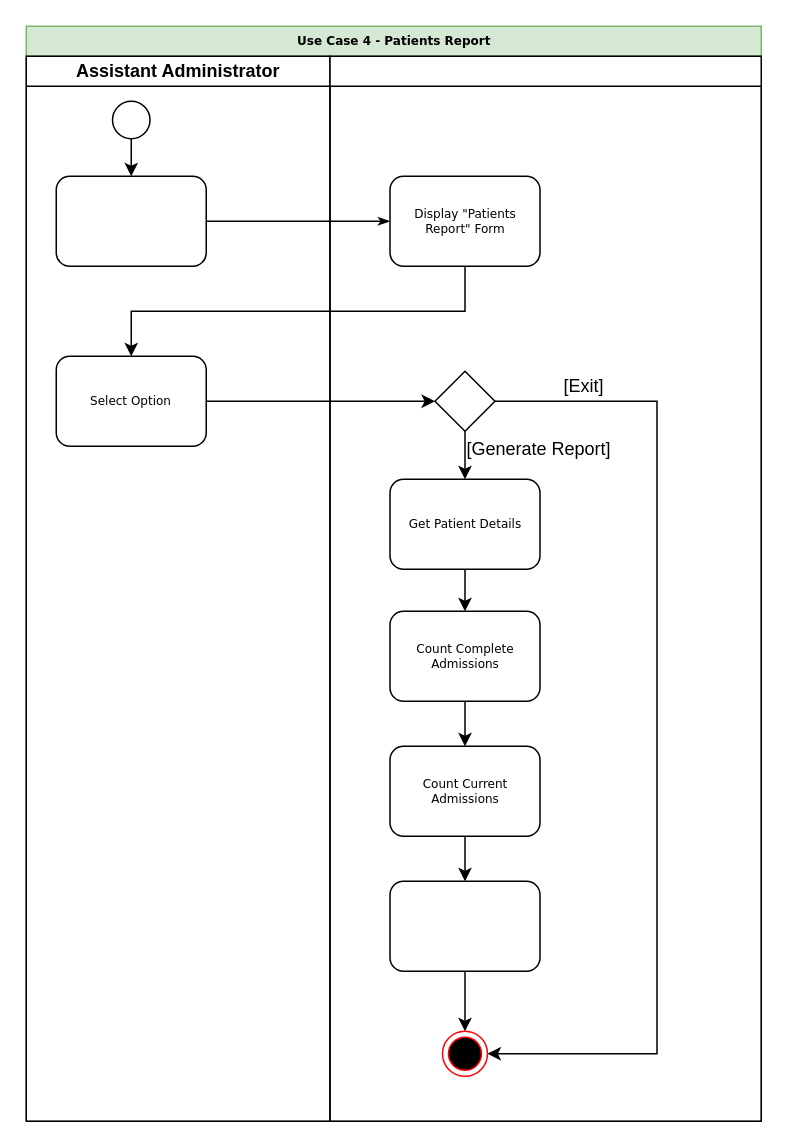
Image size: 788x1148. Some labels were removed from this diagram. The box of each missing label's shape, as (x1, y1, x2, y2) in pixels:
Display Patient Report: (388, 880, 540, 971)
Select "Patients Report" Form: (55, 175, 206, 266)
System: (328, 55, 761, 1121)
